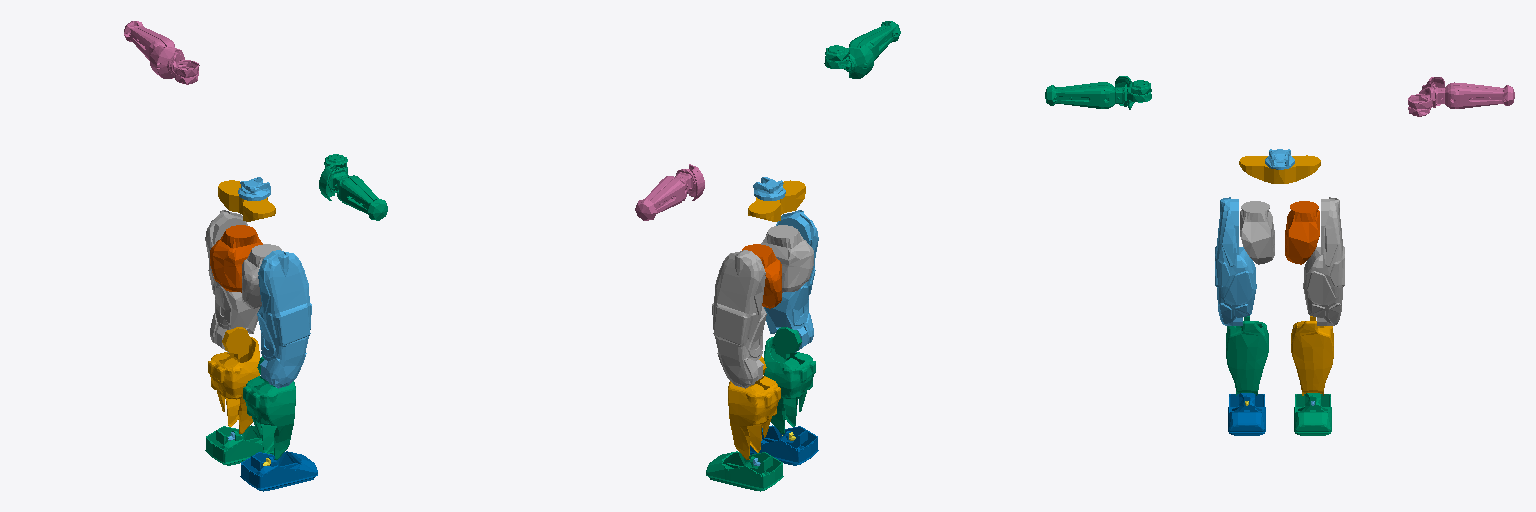
--- Render facts (derived) ---
3 views of the same robot in one strip: view 1: azimuth 30°, elevation 25°; view 2: azimuth 150°, elevation 25°; view 3: azimuth 270°, elevation 25° (orthographic).
Model valkyrie with 37 links and 36 joints (26 revolute, 10 fixed), rooted at pelvis, posed all joints at 0.
Links seen in each view (by area): view 1: rightHipPitchLink, leftKneePitchLink, rightKneePitchLink, leftHipPitchLink, leftElbowPitchLink, rightFoot, rightElbowPitchLink, leftHipYawLink, leftFoot, pelvis, rightHipYawLink, torsoYawLink; view 2: leftHipPitchLink, rightKneePitchLink, leftKneePitchLink, rightHipPitchLink, leftFoot, rightElbowPitchLink, rightHipYawLink, leftElbowPitchLink, rightFoot, pelvis, leftHipYawLink, torsoYawLink; view 3: rightHipPitchLink, leftHipPitchLink, leftKneePitchLink, rightKneePitchLink, leftElbowPitchLink, rightElbowPitchLink, rightHipYawLink, leftHipYawLink, rightFoot, leftFoot, pelvis.
Boxes of the visible links, x1=… form: rightHipPitchLink: x1=257, y1=250, x2=311, y2=388; leftKneePitchLink: x1=208, y1=327, x2=259, y2=433; rightKneePitchLink: x1=243, y1=356, x2=295, y2=459; leftHipPitchLink: x1=205, y1=210, x2=259, y2=352; leftElbowPitchLink: x1=124, y1=21, x2=199, y2=84; rightFoot: x1=240, y1=451, x2=317, y2=491; rightElbowPitchLink: x1=319, y1=154, x2=387, y2=220; leftHipYawLink: x1=210, y1=225, x2=262, y2=292; leftFoot: x1=205, y1=425, x2=273, y2=465; pelvis: x1=218, y1=180, x2=275, y2=221; rightHipYawLink: x1=242, y1=244, x2=281, y2=308; torsoYawLink: x1=238, y1=177, x2=270, y2=200; leftHipPitchLink: x1=712, y1=250, x2=766, y2=388; rightKneePitchLink: x1=764, y1=327, x2=815, y2=433; leftKneePitchLink: x1=728, y1=356, x2=780, y2=459; rightHipPitchLink: x1=764, y1=210, x2=818, y2=352; leftFoot: x1=706, y1=451, x2=783, y2=491; rightElbowPitchLink: x1=824, y1=21, x2=900, y2=78; rightHipYawLink: x1=761, y1=225, x2=813, y2=292; leftElbowPitchLink: x1=635, y1=164, x2=704, y2=220; rightFoot: x1=750, y1=425, x2=818, y2=465; pelvis: x1=748, y1=180, x2=805, y2=221; leftHipYawLink: x1=742, y1=244, x2=781, y2=308; torsoYawLink: x1=753, y1=177, x2=785, y2=200; rightHipPitchLink: x1=1215, y1=197, x2=1256, y2=325; leftHipPitchLink: x1=1303, y1=197, x2=1344, y2=325; leftKneePitchLink: x1=1291, y1=316, x2=1333, y2=395; rightKneePitchLink: x1=1226, y1=316, x2=1268, y2=395; leftElbowPitchLink: x1=1408, y1=77, x2=1514, y2=116; rightElbowPitchLink: x1=1045, y1=76, x2=1151, y2=109; rightHipYawLink: x1=1240, y1=201, x2=1274, y2=264; leftHipYawLink: x1=1285, y1=201, x2=1319, y2=264; rightFoot: x1=1228, y1=393, x2=1265, y2=435; leftFoot: x1=1294, y1=393, x2=1331, y2=435; pelvis: x1=1239, y1=155, x2=1320, y2=183.
Size in the robot's own frame: 0.2911 by 1.96 by 1.56 metres.
Meshes: 23 distinct files referenced, 14 mesh visuals loaded (12 Collada DAE); not drawn: 11 (reference not matched to a file when rendering).

URDF robot description (valkyrie):
<?xml version="1.0" ?>
<!-- =================================================================================== -->
<!-- |    This document was autogenerated by xacro from [local-path]/Desktop/catkin_ws/src/val_description/model/robots/valkyrie_C_arm_mass_sims.xacro | -->
<!-- |    EDITING THIS FILE BY HAND IS NOT RECOMMENDED                                 | -->
<!-- =================================================================================== -->
<robot name="valkyrie" xmlns:xacro="http://ros.org/wiki/xacro">
  <!--Yaw-->
  <!--pitch-->
  <!--roll-->
  <!-- Pelvis include -->
  <!-- Leg include -->
  <!-- Head include -->
  <!-- Arm include -->
  <!-- Waist include -->
  <link name="pelvis">
    <inertial>
      <mass value="8.22"/>
      <origin rpy="0 0 0" xyz="-0.00532 -0.003512 -0.0036"/>
      <inertia ixx="0.11866378" ixy="-0.000143482" ixz="0.003271293" iyy="0.097963425" iyz="0.002159545" izz="0.083854638"/>
    </inertial>
    <visual>
      <geometry>
        <mesh filename="package://val_description/model/meshes/pelvis/pelvis.dae"/>
      </geometry>
      <origin rpy="0.0 0.0 0.0" xyz="0.0 0.0 0.0"/>
    </visual>
    <collision>
      <geometry>
        <mesh filename="package://val_description/model/meshes/pelvis/pelvis.dae"/>
      </geometry>
      <origin rpy="0 0 0" xyz="0 0 0"/>
    </collision>
  </link>
  <link name="torsoYawLink">
    <inertial>
      <mass value="0.5"/>
      <origin rpy="0 0 0" xyz="0.000000 0.000000 -0.010000"/>
      <inertia ixx="0.000608427" ixy="-1.172e-06" ixz="1.647e-06" iyy="0.000620328" iyz="-2.33e-07" izz="0.001078108"/>
    </inertial>
    <visual>
      <geometry>
        <mesh filename="package://val_description/model/meshes/torso/torsoyaw.dae"/>
      </geometry>
      <origin rpy="0.0 0.0 0.0" xyz="0.0 0.0 0.0"/>
    </visual>
    <collision>
      <geometry>
        <mesh filename="package://val_description/model/meshes/torso/torsoyaw.dae"/>
      </geometry>
      <origin rpy="0 0 0" xyz="0 0 0"/>
    </collision>
  </link>
  <link name="torsoPitchLink">
    <inertial>
      <mass value="0.1"/>
      <origin rpy="0 0 0" xyz="0.000000 0.000000  0.005000"/>
      <inertia ixx="3.032e-05" ixy="0.0" ixz="-1.145e-06" iyy="2.1274e-05" iyz="0.0" izz="2.8285e-05"/>
    </inertial>
    <visual>
      <geometry>
        <mesh filename="package://val_description/model/meshes/torso/torsopitch.dae"/>
      </geometry>
      <origin rpy="0.0 0.0 0.0" xyz="0.0 0.0 0.0"/>
    </visual>
    <collision>
      <geometry>
        <mesh filename="package://val_description/model/meshes/torso/torsopitch.dae"/>
      </geometry>
      <origin rpy="0 0 0" xyz="0 0 0"/>
    </collision>
  </link>
  <link name="torso">
    <inertial>
      <mass value="39.47"/>
      <origin rpy="0 0 0" xyz="-0.095548 -0.003337 0.243098"/>
      <inertia ixx="0.87326933" ixy="9.9563e-05" ixz="0.061345211" iyy="1.0108485" iyz="0.00181849" izz="0.77839801"/>
    </inertial>
    <visual>
      <geometry>
        <mesh filename="package://val_description/model/meshes/torso/torso.dae"/>
      </geometry>
      <origin rpy="0.0 0.0 0.0" xyz="0.0 0.0 0.0"/>
    </visual>
    <collision>
      <geometry>
        <mesh filename="package://val_description/model/meshes/torso/torso.dae"/>
      </geometry>
      <origin rpy="0 0 0" xyz="0 0 0"/>
    </collision>
  </link>
  <joint name="torsoYaw" type="revolute">
    <origin rpy="0.0 0.0 0.0" xyz="0.0 0.0 0.0"/>
    <axis xyz="0 0 1"/>
    <parent link="pelvis"/>
    <child link="torsoYawLink"/>
    <limit effort="190" lower="-1.329" upper="1.181" velocity="5.89"/>
    <controller_gains Kd="0.0" Ki="0.0" Kp="0.0"/>
    <dynamics damping="0.1" friction="0.0"/>
  </joint>
  <gazebo reference="torsoYaw">
    <provideFeedback>1</provideFeedback>
    <implicitSpringDamper>1</implicitSpringDamper>
  </gazebo>
  <joint name="torsoPitch" type="revolute">
    <origin rpy="0.0 0.0 0.0" xyz="0.04191 0.0 0.0"/>
    <axis xyz="0 1 0"/>
    <parent link="torsoYawLink"/>
    <child link="torsoPitchLink"/>
    <limit effort="150" lower="-0.13" upper="0.666" velocity="9"/>
    <controller_gains Kd="0.0" Ki="0.0" Kp="0.0"/>
    <dynamics damping="0.1" friction="0.0"/>
  </joint>
  <gazebo reference="torsoPitch">
    <provideFeedback>1</provideFeedback>
    <implicitSpringDamper>1</implicitSpringDamper>
  </gazebo>
  <joint name="torsoRoll" type="revolute">
    <origin rpy="0.0 0.0 0.0" xyz="0.0 0.0 0.0203"/>
    <axis xyz="1 0 0"/>
    <parent link="torsoPitchLink"/>
    <child link="torso"/>
    <limit effort="150" lower="-0.23" upper="0.255" velocity="9"/>
    <controller_gains Kd="0.0" Ki="0.0" Kp="0.0"/>
    <dynamics damping="0.1" friction="0.0"/>
  </joint>
  <gazebo reference="torsoRoll">
    <provideFeedback>1</provideFeedback>
    <implicitSpringDamper>1</implicitSpringDamper>
  </gazebo>
  <link name="lowerNeckPitchLink">
    <inertial>
      <mass value="1.05"/>
      <origin rpy="0 0 0" xyz="-0.020000 0.000000  0.040000"/>
      <inertia ixx="0.001470716" ixy="-0.000126021" ixz="0.000632521" iyy="0.001851919" iyz="0.000243012" izz="0.000832117"/>
    </inertial>
    <visual>
      <geometry>
        <mesh filename="package://val_description/model/meshes/head/neckj1.dae"/>
      </geometry>
      <origin rpy="0.0 0.0 0.0" xyz="0.0 0.0 0.0"/>
    </visual>
    <collision>
      <geometry>
        <mesh filename="package://val_description/model/meshes/head/neckj1.dae"/>
      </geometry>
      <origin rpy="0 0 0" xyz="0 0 0"/>
    </collision>
  </link>
  <link name="neckYawLink">
    <inertial>
      <mass value="1.4"/>
      <origin rpy="0 0 0" xyz="-0.030000  -0.010000 0.150000"/>
      <inertia ixx="0.001997698" ixy="-0.000180062" ixz="0.000723677" iyy="0.002919928" iyz="0.000246467" izz="0.002119751"/>
    </inertial>
    <visual>
      <geometry>
        <mesh filename="package://val_description/model/meshes/head/neckj2.dae"/>
      </geometry>
      <origin rpy="0.0 0.0 0.0" xyz="0.0 0.0 0.0"/>
    </visual>
    <collision>
      <geometry>
        <mesh filename="package://val_description/model/meshes/head/neckj2.dae"/>
      </geometry>
      <origin rpy="0 0 0" xyz="0 0 0"/>
    </collision>
  </link>
  <link name="upperNeckPitchLink">
    <inertial>
      <mass value="3.89"/>
      <origin rpy="0 0 0" xyz="0.100912 0.005783 0.034787"/>
      <inertia ixx="0.039847525" ixy="-0.000470418" ixz="-0.002829842" iyy="0.041418564" iyz="-0.000782564" izz="0.036841236"/>
    </inertial>
    <visual>
      <geometry>
        <mesh filename="package://val_description/model/meshes/head/head_multisense_no_visor.dae"/>
      </geometry>
      <origin rpy="0.0 0.0 0.0" xyz="0.0 0.0 0.0"/>
    </visual>
    <collision>
      <geometry>
        <mesh filename="package://val_description/model/meshes/head/head_multisense_no_visor.dae"/>
      </geometry>
      <origin rpy="0 0 0" xyz="0 0 0"/>
    </collision>
  </link>
  <joint name="lowerNeckPitch" type="revolute">
    <origin rpy="0.0 0.0 0.0" xyz="0.0203518 0.0 0.33845"/>
    <axis xyz="0 1 0"/>
    <parent link="torso"/>
    <child link="lowerNeckPitchLink"/>
    <limit effort="26" lower="0" upper="1.162" velocity="5"/>
    <controller_gains Kd="3" Ki="3" Kp="50"/>
    <dynamics damping="0.1" friction="0.0"/>
  </joint>
  <gazebo reference="lowerNeckPitch">
    <provideFeedback>1</provideFeedback>
    <implicitSpringDamper>1</implicitSpringDamper>
  </gazebo>
  <joint name="neckYaw" type="revolute">
    <origin rpy="0.0 0.0 0.0" xyz="-0.051924 0.0 0.0"/>
    <axis xyz="0 0 1"/>
    <parent link="lowerNeckPitchLink"/>
    <child link="neckYawLink"/>
    <limit effort="26" lower="-1.04719755" upper="1.04719755" velocity="5"/>
    <controller_gains Kd="3" Ki="0.0" Kp="50"/>
    <dynamics damping="0.1" friction="0.0"/>
  </joint>
  <gazebo reference="neckYaw">
    <provideFeedback>1</provideFeedback>
    <implicitSpringDamper>1</implicitSpringDamper>
  </gazebo>
  <joint name="upperNeckPitch" type="revolute">
    <origin rpy="0.0 0.0 0.0" xyz="-0.06 0 0.195997"/>
    <axis xyz="0 1 0"/>
    <parent link="neckYawLink"/>
    <child link="upperNeckPitchLink"/>
    <limit effort="26" lower="-0.872" upper="0.0" velocity="5"/>
    <controller_gains Kd="3" Ki="0.0" Kp="50"/>
    <dynamics damping="0.1" friction="0.0"/>
  </joint>
  <gazebo reference="upperNeckPitch">
    <provideFeedback>1</provideFeedback>
    <implicitSpringDamper>1</implicitSpringDamper>
  </gazebo>
  <link name="rightShoulderPitchLink">
    <inertial>
      <mass value="2.65"/>
      <origin rpy="0 0 0" xyz="0.012 -0.251 0.000000"/>
      <inertia ixx="0.013718167" ixy="0.0" ixz="0.0" iyy="0.010502833" iyz="0.0" izz="0.014806433"/>
    </inertial>
    <visual>
      <geometry>
        <mesh filename="package://val_description/model/meshes/arms/aj1_right.dae"/>
      </geometry>
      <origin rpy="0.0 0.0 0.0" xyz="0.0 0.0 0.0"/>
    </visual>
    <collision>
      <geometry>
        <mesh filename="package://val_description/model/meshes/arms/aj1_right.dae"/>
      </geometry>
      <origin rpy="0 0 0" xyz="0 0 0"/>
    </collision>
  </link>
  <link name="rightShoulderRollLink">
    <inertial>
      <mass value="3.97"/>
      <origin rpy="0 0 0" xyz="0.008513 -0.02068 -0.001088"/>
      <inertia ixx="0.014598842" ixy="-0.00066764" ixz="3.629e-05" iyy="0.006452136" iyz="8.283e-05" izz="0.016848319"/>
    </inertial>
    <visual>
      <geometry>
        <mesh filename="package://val_description/model/meshes/arms/aj2_right.dae"/>
      </geometry>
      <origin rpy="0.0 0.0 0.0" xyz="0.0 0.0 0.0"/>
    </visual>
    <collision>
      <geometry>
        <mesh filename="package://val_description/model/meshes/arms/aj2_right.dae"/>
      </geometry>
      <origin rpy="0 0 0" xyz="0 0 0"/>
    </collision>
  </link>
  <link name="rightShoulderYawLink">
    <inertial>
      <mass value="3.085"/>
      <origin rpy="0 0 0" xyz="-0.004304 -0.209832 -0.007295"/>
      <inertia ixx="0.039355177" ixy="0.007827077" ixz="0.000753947" iyy="0.004905765" iyz="-0.002723873" izz="0.041879481"/>
    </inertial>
    <visual>
      <geometry>
        <mesh filename="package://val_description/model/meshes/arms/aj3_right.dae"/>
      </geometry>
      <origin rpy="0.0 0.0 0.0" xyz="0.0 0.0 0.0"/>
    </visual>
    <collision>
      <geometry>
        <mesh filename="package://val_description/model/meshes/arms/aj3_right.dae"/>
      </geometry>
      <origin rpy="0 0 0" xyz="0 0 0"/>
    </collision>
  </link>
  <link name="rightElbowPitchLink">
    <inertial>
      <mass value="6.03"/>
      <origin rpy="0 0 0" xyz="-0.010000  -0.13 0.019564"/>
      <inertia ixx="0.01175543" ixy="-0.001300853" ixz="-0.000727141" iyy="0.005071567" iyz="-0.001695416" izz="0.011365657"/>
    </inertial>
    <visual>
      <geometry>
        <mesh filename="package://val_description/model/meshes/arms/right_elbow_mass_sim.dae"/>
      </geometry>
      <origin rpy="0.0 0.0 0.0" xyz="0.0 0.0 0.0"/>
    </visual>
    <collision>
      <geometry>
        <mesh filename="package://val_description/model/meshes/arms/right_elbow_mass_sim.dae"/>
      </geometry>
      <origin rpy="0 0 0" xyz="0 0 0"/>
    </collision>
  </link>
  <joint name="rightShoulderPitch" type="revolute">
    <origin rpy="0.0 0.0 0.0" xyz="-0.0316 0.0 0.2984"/>
    <axis xyz="0 1 0"/>
    <parent link="torso"/>
    <child link="rightShoulderPitchLink"/>
    <limit effort="190" lower="-2.85" upper="2.0" velocity="5.89"/>
    <controller_gains Kd="0.0" Ki="0.0" Kp="0.0"/>
    <dynamics damping="0.1" friction="0.0"/>
  </joint>
  <gazebo reference="rightShoulderPitch">
    <provideFeedback>1</provideFeedback>
    <implicitSpringDamper>1</implicitSpringDamper>
  </gazebo>
  <joint name="rightShoulderRoll" type="revolute">
    <origin rpy="0.0 0.0 0.0" xyz="0.0 -0.2499 0.0"/>
    <axis xyz="1 0 0"/>
    <parent link="rightShoulderPitchLink"/>
    <child link="rightShoulderRollLink"/>
    <limit effort="190" lower="-1.266" upper="1.519" velocity="5.89"/>
    <controller_gains Kd="0.0" Ki="0.0" Kp="0.0"/>
    <dynamics damping="0.1" friction="0.0"/>
  </joint>
  <gazebo reference="rightShoulderRoll">
    <provideFeedback>1</provideFeedback>
    <implicitSpringDamper>1</implicitSpringDamper>
  </gazebo>
  <joint name="rightShoulderYaw" type="revolute">
    <origin rpy="0.0 0.0 0.0" xyz="0.0 0.0 0.0"/>
    <axis xyz="0 1 0"/>
    <parent link="rightShoulderRollLink"/>
    <child link="rightShoulderYawLink"/>
    <limit effort="65" lower="-3.1" upper="2.18" velocity="11.5"/>
    <controller_gains Kd="0.0" Ki="0.0" Kp="0.0"/>
    <dynamics damping="0.1" friction="0.0"/>
  </joint>
  <gazebo reference="rightShoulderYaw">
    <provideFeedback>1</provideFeedback>
    <implicitSpringDamper>1</implicitSpringDamper>
  </gazebo>
  <joint name="rightElbowPitch" type="revolute">
    <origin rpy="0.0 0.0 0.0" xyz="0.0254 -0.33 0.0"/>
    <axis xyz="0 0 1"/>
    <parent link="rightShoulderYawLink"/>
    <child link="rightElbowPitchLink"/>
    <limit effort="65" lower="-0.12" upper="2.174" velocity="11.5"/>
    <controller_gains Kd="0.0" Ki="0.0" Kp="0.0"/>
    <dynamics damping="0.1" friction="0.0"/>
  </joint>
  <gazebo reference="rightElbowPitch">
    <provideFeedback>1</provideFeedback>
    <implicitSpringDamper>1</implicitSpringDamper>
  </gazebo>
  <link name="leftShoulderPitchLink">
    <inertial>
      <mass value="2.65"/>
      <origin rpy="0 0 0" xyz="-0.012 0.251 0.000000"/>
      <inertia ixx="0.013718167" ixy="0.0" ixz="0.0" iyy="0.010502833" iyz="0.0" izz="0.014806433"/>
    </inertial>
    <visual>
      <geometry>
        <mesh filename="package://val_description/model/meshes/arms/aj1_left.dae"/>
      </geometry>
      <origin rpy="0.0 0.0 0.0" xyz="0.0 0.0 0.0"/>
    </visual>
    <collision>
      <geometry>
        <mesh filename="package://val_description/model/meshes/arms/aj1_left.dae"/>
      </geometry>
      <origin rpy="0 0 0" xyz="0 0 0"/>
    </collision>
  </link>
  <link name="leftShoulderRollLink">
    <inertial>
      <mass value="3.97"/>
      <origin rpy="0 0 0" xyz="-0.008513 0.02068 -0.001088"/>
      <inertia ixx="0.014598842" ixy="-0.00066764" ixz="-3.629e-05" iyy="0.006452136" iyz="-8.283e-05" izz="0.016848319"/>
    </inertial>
    <visual>
      <geometry>
        <mesh filename="package://val_description/model/meshes/arms/aj2_left.dae"/>
      </geometry>
      <origin rpy="0.0 0.0 0.0" xyz="0.0 0.0 0.0"/>
    </visual>
    <collision>
      <geometry>
        <mesh filename="package://val_description/model/meshes/arms/aj2_left.dae"/>
      </geometry>
      <origin rpy="0 0 0" xyz="0 0 0"/>
    </collision>
  </link>
  <link name="leftShoulderYawLink">
    <inertial>
      <mass value="3.085"/>
      <origin rpy="0 0 0" xyz="-0.004304 0.209832 0.007295"/>
      <inertia ixx="0.039355177" ixy="-0.007827077" ixz="-0.000753947" iyy="0.004905765" iyz="0.002723873" izz="0.041879481"/>
    </inertial>
    <visual>
      <geometry>
        <mesh filename="package://val_description/model/meshes/arms/aj3_left.dae"/>
      </geometry>
      <origin rpy="0.0 0.0 0.0" xyz="0.0 0.0 0.0"/>
    </visual>
    <collision>
      <geometry>
        <mesh filename="package://val_description/model/meshes/arms/aj3_left.dae"/>
      </geometry>
      <origin rpy="0 0 0" xyz="0 0 0"/>
    </collision>
  </link>
  <link name="leftElbowPitchLink">
    <inertial>
      <mass value="6.03"/>
      <origin rpy="0 0 0" xyz="-0.010000  0.13 0.019564"/>
      <inertia ixx="0.01175543" ixy="0.001300853" ixz="-0.000727141" iyy="0.005071567" iyz="0.001695416" izz="0.011365657"/>
    </inertial>
    <visual>
      <geometry>
        <mesh filename="package://val_description/model/meshes/arms/left_elbow_mass_sim.dae"/>
      </geometry>
      <origin rpy="0.0 0.0 0.0" xyz="0.0 0.0 0.0"/>
    </visual>
    <collision>
      <geometry>
        <mesh filename="package://val_description/model/meshes/arms/left_elbow_mass_sim.dae"/>
      </geometry>
      <origin rpy="0 0 0" xyz="0 0 0"/>
    </collision>
  </link>
  <joint name="leftShoulderPitch" type="revolute">
    <origin rpy="0.0 0.0 0.0" xyz="-0.0316 0.0 0.2984"/>
    <axis xyz="0 1 0"/>
    <parent link="torso"/>
    <child link="leftShoulderPitchLink"/>
    <limit effort="190" lower="-2.85" upper="2.0" velocity="5.89"/>
    <controller_gains Kd="0.0" Ki="0.0" Kp="0.0"/>
    <dynamics damping="0.1" friction="0.0"/>
  </joint>
  <gazebo reference="leftShoulderPitch">
    <provideFeedback>1</provideFeedback>
    <implicitSpringDamper>1</implicitSpringDamper>
  </gazebo>
  <joint name="leftShoulderRoll" type="revolute">
    <origin rpy="0.0 0.0 0.0" xyz="0.0 0.2499 0.0"/>
    <axis xyz="1 0 0"/>
    <parent link="leftShoulderPitchLink"/>
    <child link="leftShoulderRollLink"/>
    <limit effort="190" lower="-1.519" upper="1.266" velocity="5.89"/>
    <controller_gains Kd="0.0" Ki="0.0" Kp="0.0"/>
    <dynamics damping="0.1" friction="0.0"/>
  </joint>
  <gazebo reference="leftShoulderRoll">
    <provideFeedback>1</provideFeedback>
    <implicitSpringDamper>1</implicitSpringDamper>
  </gazebo>
  <joint name="leftShoulderYaw" type="revolute">
    <origin rpy="0.0 0.0 0.0" xyz="0.0 0.0 0.0"/>
    <axis xyz="0 1 0"/>
    <parent link="leftShoulderRollLink"/>
    <child link="leftShoulderYawLink"/>
    <limit effort="65" lower="-3.1" upper="2.18" velocity="11.5"/>
    <controller_gains Kd="0.0" Ki="0.0" Kp="0.0"/>
    <dynamics damping="0.1" friction="0.0"/>
  </joint>
  <gazebo reference="leftShoulderYaw">
    <provideFeedback>1</provideFeedback>
    <implicitSpringDamper>1</implicitSpringDamper>
  </gazebo>
  <joint name="leftElbowPitch" type="revolute">
    <origin rpy="0.0 0.0 0.0" xyz="0.0254 0.33 0.0"/>
    <axis xyz="0 0 1"/>
    <parent link="leftShoulderYawLink"/>
    <child link="leftElbowPitchLink"/>
    <limit effort="65" lower="-2.174" upper="0.12" velocity="11.5"/>
    <controller_gains Kd="0.0" Ki="0.0" Kp="0.0"/>
    <dynamics damping="0.1" friction="0.0"/>
  </joint>
  <gazebo reference="leftElbowPitch">
    <provideFeedback>1</provideFeedback>
    <implicitSpringDamper>1</implicitSpringDamper>
  </gazebo>
  <link name="rightHipYawLink">
    <inertial>
      <mass value="2.39"/>
      <origin rpy="0 0 0" xyz="0.02176 0.00131 0.03867"/>
      <inertia ixx="0.017260978" ixy="0.0" ixz="0.0" iyy="0.014866198" iyz="0.0" izz="0.011238178"/>
    </inertial>
    <visual>
      <geometry>
        <mesh filename="package://val_description/model/meshes/legs/lj1_right.dae"/>
      </geometry>
      <origin rpy="0.0 0.0 0.0" xyz="0.0 0.0 0.0"/>
    </visual>
    <collision>
      <geometry>
        <mesh filename="package://val_description/model/meshes/legs/lj1_right.dae"/>
      </geometry>
      <origin rpy="0 0 0" xyz="0 0 0"/>
    </collision>
  </link>
  <link name="rightHipRollLink">
    <inertial>
      <mass value="3.665"/>
      <origin rpy="0 0 0" xyz="0.012959 -0.00755 -0.015950"/>
      <inertia ixx="0.005978962" ixy="0.000234823" ixz="0.000553962" iyy="0.009372646" iyz="-0.000778956" izz="0.008193117"/>
    </inertial>
  </link>
  <link name="rightHipPitchLink">
    <inertial>
      <mass value="10.2"/>
      <origin rpy="0 0 0" xyz="0.016691 -0.091397 -0.207875"/>
      <inertia ixx="0.24083413" ixy="-3.5915e-05" ixz="0.003699383" iyy="0.25689705" iyz="0.001333005" izz="0.023276352"/>
    </inertial>
    <visual>
      <geometry>
        <mesh filename="package://val_description/model/meshes/legs/lj3_right.dae"/>
      </geometry>
      <origin rpy="0.0 0.0 0.0" xyz="0.0 0.0 0.0"/>
    </visual>
    <collision>
      <geometry>
        <mesh filename="package://val_description/model/meshes/legs/lj3_right.dae"/>
      </geometry>
      <origin rpy="0 0 0" xyz="0 0 0"/>
    </collision>
  </link>
  <link name="rightKneePitchLink">
    <inertial>
      <mass value="6.2"/>
      <origin rpy="0 0 0" xyz="-0.022183  0.001703  -0.189418"/>
      <inertia ixx="0.086935683" ixy="9.929e-05" ixz="0.000573207" iyy="0.091584066" iyz="0.000313745" izz="0.014017272"/>
    </inertial>
    <visual>
      <geometry>
        <mesh filename="package://val_description/model/meshes/legs/lj4_right.dae"/>
      </geometry>
      <origin rpy="0.0 0.0 0.0" xyz="0.0 0.0 0.0"/>
    </visual>
    <collision>
      <geometry>
        <mesh filename="package://val_description/model/meshes/legs/lj4_right.dae"/>
      </geometry>
      <origin rpy="0 0 0" xyz="0 0 0"/>
    </collision>
  </link>
  <link name="rightAnklePitchLink">
    <inertial>
      <mass value="0.03"/>
      <origin rpy="0 0 0" xyz="0.0 0.0 0.0"/>
      <inertia ixx="4.377e-06" ixy="0.0" ixz="0.0" iyy="4.322e-06" iyz="0.0" izz="7.015e-06"/>
    </inertial>
    <visual>
      <geometry>
        <mesh filename="package://val_description/model/meshes/legs/lj5.dae"/>
      </geometry>
      <origin rpy="0.0 0.0 0.0" xyz="0.0 0.0 0.0"/>
    </visual>
    <collision>
      <geometry>
        <mesh filename="package://val_description/model/meshes/legs/lj5.dae"/>
      </geometry>
      <origin rpy="0 0 0" xyz="0 0 0"/>
    </collision>
  </link>
  <link name="rightFoot">
    <inertial>
      <mass value="2.27"/>
      <origin rpy="0 0 0" xyz="0.037702  0.005161  -0.047634"/>
      <inertia ixx="0.00623936" ixy="0.000217174" ixz="0.001340587" iyy="0.017786991" iyz="-0.000187749" izz="0.020774433"/>
    </inertial>
    <visual>
      <geometry>
        <mesh filename="package://val_description/model/meshes/legs/foot.dae"/>
      </geometry>
      <origin rpy="0 0 0" xyz="0 0 0"/>
    </visual>
    <collision>
      <geometry>
        <box size="0.27 0.16 0.064"/>
      </geometry>
      <origin rpy="0.0 0.0 0.0" xyz="0.045 0.0 -0.056"/>
    </collision>
  </link>
  <!-- foot contact parameters copied from atlas_description in drcsim -->
  <gazebo reference="rightFoot">
    <!-- kp and kd for rubber -->
    <kp>1000000.0</kp>
    <kd>100.0</kd>
    <mu1>1.5</mu1>
    <mu2>1.5</mu2>
    <fdir1>1 0 0</fdir1>
    <maxVel>1.0</maxVel>
    <minDepth>0.00</minDepth>
  </gazebo>
  <joint name="rightHipYaw" type="revolute">
    <origin rpy="0.0 0.0 0.0" xyz="0.0 -0.1016 -0.1853"/>
    <axis xyz="0 0 1"/>
    <parent link="pelvis"/>
    <child link="rightHipYawLink"/>
    <limit effort="190" lower="-1.1" upper="0.4141" velocity="5.89"/>
    <controller_gains Kd="0.0" Ki="0.0" Kp="0.0"/>
    <dynamics damping="0.1" friction="0.0"/>
  </joint>
  <gazebo reference="rightHipYaw">
    <provideFeedback>1</provideFeedback>
    <implicitSpringDamper>1</implicitSpringDamper>
  </gazebo>
  <joint name="rightHipRoll" type="revolute">
    <origin rpy="0.0 0.0 0.0" xyz="0.0 0.0 0.0"/>
    <axis xyz="1 0 0"/>
    <parent link="rightHipYawLink"/>
    <child link="rightHipRollLink"/>
    <limit effort="350" lower="-0.5515" upper="0.467" velocity="7"/>
    <controller_gains Kd="0.0" Ki="0.0" Kp="0.0"/>
    <dynamics damping="0.1" friction="0.0"/>
  </joint>
  <gazebo reference="rightHipRoll">
    <provideFeedback>1</provideFeedback>
    <implicitSpringDamper>1</implicitSpringDamper>
  </gazebo>
  <joint name="rightHipPitch" type="revolute">
    <origin rpy="0.0 0.0 0.0" xyz="0.0 0.0 -0.0609"/>
    <axis xyz="0 1 0"/>
    <parent link="rightHipRollLink"/>
    <child link="rightHipPitchLink"/>
    <limit effort="350" lower="-2.42" upper="1.619" velocity="6.11"/>
    <controller_gains Kd="0.0" Ki="0.0" Kp="0.0"/>
    <dynamics damping="0.1" friction="0.0"/>
  </joint>
  <gazebo reference="rightHipPitch">
    <provideFeedback>1</provideFeedback>
    <implicitSpringDamper>1</implicitSpringDamper>
  </gazebo>
  <joint name="rightKneePitch" type="revolute">
    <origin rpy="0.0 0.0 0.0" xyz="0.000112225 -0.0361046 -0.430959"/>
    <axis xyz="0 1 0"/>
    <parent link="rightHipPitchLink"/>
    <child link="rightKneePitchLink"/>
    <limit effort="350" lower="-0.083" upper="2.057" velocity="6.11"/>
    <controller_gains Kd="0.0" Ki="0.0" Kp="0.0"/>
    <dynamics damping="0.1" friction="0.0"/>
  </joint>
  <gazebo reference="rightKneePitch">
    <provideFeedback>1</provideFeedback>
    <implicitSpringDamper>1</implicitSpringDamper>
  </gazebo>
  <joint name="rightAnklePitch" type="revolute">
    <origin rpy="0.0 0.0 0.0" xyz="-0.0102381 0.0 -0.40627"/>
    <axis xyz="0 1 0"/>
    <parent link="rightKneePitchLink"/>
    <child link="rightAnklePitchLink"/>
    <limit effort="205" lower="-0.93" upper="0.65" velocity="11"/>
    <controller_gains Kd="0.0" Ki="0.0" Kp="0.0"/>
    <dynamics damping="0.1" friction="0.0"/>
  </joint>
  <gazebo reference="rightAnklePitch">
    <provideFeedback>1</provideFeedback>
    <implicitSpringDamper>1</implicitSpringDamper>
  </gazebo>
  <joint name="rightAnkleRoll" type="revolute">
    <origin rpy="0.0 0.0 0.0" xyz="0.0 0.0 0.0"/>
    <axis xyz="1 0 0"/>
    <parent link="rightAnklePitchLink"/>
    <child link="rightFoot"/>
    <limit effort="205" lower="-0.4" upper="0.4" velocity="11"/>
    <controller_gains Kd="0.0" Ki="0.0" Kp="0.0"/>
    <dynamics damping="0.3" friction="0.0"/>
  </joint>
  <gazebo reference="rightAnkleRoll">
    <provideFeedback>1</provideFeedback>
    <implicitSpringDamper>1</implicitSpringDamper>
  </gazebo>
  <link name="leftHipYawLink">
    <inertial>
      <mass value="2.39"/>
      <origin rpy="0 0 0" xyz="0.02176 -0.00131 0.03867"/>
      <inertia ixx="0.017260978" ixy="0.0" ixz="0.0" iyy="0.014866198" iyz="0.0" izz="0.011238178"/>
    </inertial>
    <visual>
      <geometry>
        <mesh filename="package://val_description/model/meshes/legs/lj1_left.dae"/>
      </geometry>
      <origin rpy="0.0 0.0 0.0" xyz="0.0 0.0 0.0"/>
    </visual>
    <collision>
      <geometry>
        <mesh filename="package://val_description/model/meshes/legs/lj1_left.dae"/>
      </geometry>
      <origin rpy="0 0 0" xyz="0 0 0"/>
    </collision>
  </link>
  <link name="leftHipRollLink">
    <inertial>
      <mass value="3.665"/>
      <origin rpy="0 0 0" xyz="0.012959 0.00755 -0.015950"/>
      <inertia ixx="0.005978962" ixy="-0.000234823" ixz="0.000553962" iyy="0.009372646" iyz="0.000778956" izz="0.008193117"/>
    </inertial>
  </link>
  <link name="leftHipPitchLink">
    <inertial>
      <mass value="10.2"/>
      <origin rpy="0 0 0" xyz="0.016691 0.091397 -0.207875"/>
      <inertia ixx="0.24083413" ixy="3.5915e-05" ixz="0.003699383" iyy="0.25689705" iyz="-0.001333005" izz="0.023276352"/>
    </inertial>
    <visual>
      <geometry>
        <mesh filename="package://val_description/model/meshes/legs/lj3_left.dae"/>
      </geometry>
      <origin rpy="0.0 0.0 0.0" xyz="0.0 0.0 0.0"/>
    </visual>
    <collision>
      <geometry>
        <mesh filename="package://val_description/model/meshes/legs/lj3_left.dae"/>
      </geometry>
      <origin rpy="0 0 0" xyz="0 0 0"/>
    </collision>
  </link>
  <link name="leftKneePitchLink">
    <inertial>
      <mass value="6.2"/>
      <origin rpy="0 0 0" xyz="-0.022183  0.001703  -0.189418"/>
      <inertia ixx="0.086935683" ixy="9.929e-05" ixz="0.000573207" iyy="0.091584066" iyz="0.000313745" izz="0.014017272"/>
    </inertial>
    <visual>
      <geometry>
        <mesh filename="package://val_description/model/meshes/legs/lj4_left.dae"/>
      </geometry>
      <origin rpy="0.0 0.0 0.0" xyz="0.0 0.0 0.0"/>
    </visual>
    <collision>
      <geometry>
        <mesh filename="package://val_description/model/meshes/legs/lj4_left.dae"/>
      </geometry>
      <origin rpy="0 0 0" xyz="0 0 0"/>
    </collision>
  </link>
  <link name="leftAnklePitchLink">
    <inertial>
      <mass value="0.03"/>
      <origin rpy="0 0 0" xyz="0.0 0.0 0.0"/>
      <inertia ixx="4.377e-06" ixy="0.0" ixz="0.0" iyy="4.322e-06" iyz="0.0" izz="7.015e-06"/>
    </inertial>
    <visual>
      <geometry>
        <mesh filename="package://val_description/model/meshes/legs/lj5.dae"/>
      </geometry>
      <origin rpy="0.0 0.0 0.0" xyz="0.0 0.0 0.0"/>
    </visual>
    <collision>
      <geometry>
        <mesh filename="package://val_description/model/meshes/legs/lj5.dae"/>
      </geometry>
      <origin rpy="0 0 0" xyz="0 0 0"/>
    </collision>
  </link>
  <link name="leftFoot">
    <inertial>
      <mass value="2.27"/>
      <origin rpy="0 0 0" xyz="0.037702  0.005161  -0.047634"/>
      <inertia ixx="0.00623936" ixy="0.000217174" ixz="0.001340587" iyy="0.017786991" iyz="-0.000187749" izz="0.020774433"/>
    </inertial>
    <visual>
      <geometry>
        <mesh filename="package://val_description/model/meshes/legs/foot.dae"/>
      </geometry>
      <origin rpy="0 0 0" xyz="0 0 0"/>
    </visual>
    <collision>
      <geometry>
        <box size="0.27 0.16 0.064"/>
      </geometry>
      <origin rpy="0.0 0.0 0.0" xyz="0.045 0.0 -0.056"/>
    </collision>
  </link>
  <!-- foot contact parameters copied from atlas_description in drcsim -->
  <gazebo reference="leftFoot">
    <!-- kp and kd for rubber -->
    <kp>1000000.0</kp>
    <kd>100.0</kd>
    <mu1>1.5</mu1>
    <mu2>1.5</mu2>
    <fdir1>1 0 0</fdir1>
    <maxVel>1.0</maxVel>
    <minDepth>0.00</minDepth>
  </gazebo>
  <joint name="leftHipYaw" type="revolute">
    <origin rpy="0.0 0.0 0.0" xyz="0.0 0.1016 -0.1853"/>
    <axis xyz="0 0 1"/>
    <parent link="pelvis"/>
    <child link="leftHipYawLink"/>
    <limit effort="190" lower="-0.4141" upper="1.1" velocity="5.89"/>
    <controller_gains Kd="0.0" Ki="0.0" Kp="0.0"/>
    <dynamics damping="0.1" friction="0.0"/>
  </joint>
  <gazebo reference="leftHipYaw">
    <provideFeedback>1</provideFeedback>
    <implicitSpringDamper>1</implicitSpringDamper>
  </gazebo>
  <joint name="leftHipRoll" type="revolute">
    <origin rpy="0.0 0.0 0.0" xyz="0.0 0.0 0.0"/>
    <axis xyz="1 0 0"/>
    <parent link="leftHipYawLink"/>
    <child link="leftHipRollLink"/>
    <limit effort="350" lower="-0.467" upper="0.5515" velocity="7"/>
    <controller_gains Kd="0.0" Ki="0.0" Kp="0.0"/>
    <dynamics damping="0.1" friction="0.0"/>
  </joint>
  <gazebo reference="leftHipRoll">
    <provideFeedback>1</provideFeedback>
    <implicitSpringDamper>1</implicitSpringDamper>
  </gazebo>
  <joint name="leftHipPitch" type="revolute">
    <origin rpy="0.0 0.0 0.0" xyz="0.0 0.0 -0.0609"/>
    <axis xyz="0 1 0"/>
    <parent link="leftHipRollLink"/>
    <child link="leftHipPitchLink"/>
    <limit effort="350" lower="-2.42" upper="1.619" velocity="6.11"/>
    <controller_gains Kd="0.0" Ki="0.0" Kp="0.0"/>
    <dynamics damping="0.1" friction="0.0"/>
  </joint>
  <gazebo reference="leftHipPitch">
    <provideFeedback>1</provideFeedback>
    <implicitSpringDamper>1</implicitSpringDamper>
  </gazebo>
  <joint name="leftKneePitch" type="revolute">
    <origin rpy="0.0 0.0 0.0" xyz="0.000112225 0.0361046 -0.430959"/>
    <axis xyz="0 1 0"/>
    <parent link="leftHipPitchLink"/>
    <child link="leftKneePitchLink"/>
    <limit effort="350" lower="-0.083" upper="2.057" velocity="6.11"/>
    <controller_gains Kd="0.0" Ki="0.0" Kp="0.0"/>
    <dynamics damping="0.1" friction="0.0"/>
  </joint>
  <gazebo reference="leftKneePitch">
    <provideFeedback>1</provideFeedback>
    <implicitSpringDamper>1</implicitSpringDamper>
  </gazebo>
  <joint name="leftAnklePitch" type="revolute">
    <origin rpy="0.0 0.0 0.0" xyz="-0.0102381 0.0 -0.40627"/>
    <axis xyz="0 1 0"/>
    <parent link="leftKneePitchLink"/>
    <child link="leftAnklePitchLink"/>
    <limit effort="205" lower="-0.93" upper="0.65" velocity="11"/>
    <controller_gains Kd="0.0" Ki="0.0" Kp="0.0"/>
    <dynamics damping="0.1" friction="0.0"/>
  </joint>
  <gazebo reference="leftAnklePitch">
    <provideFeedback>1</provideFeedback>
    <implicitSpringDamper>1</implicitSpringDamper>
  </gazebo>
  <joint name="leftAnkleRoll" type="revolute">
    <origin rpy="0.0 0.0 0.0" xyz="0.0 0.0 0.0"/>
    <axis xyz="1 0 0"/>
    <parent link="leftAnklePitchLink"/>
    <child link="leftFoot"/>
    <limit effort="205" lower="-0.4" upper="0.4" velocity="11"/>
    <controller_gains Kd="0.0" Ki="0.0" Kp="0.0"/>
    <dynamics damping="0.3" friction="0.0"/>
  </joint>
  <gazebo reference="leftAnkleRoll">
    <provideFeedback>1</provideFeedback>
    <implicitSpringDamper>1</implicitSpringDamper>
  </gazebo>
  <link name="leftTorsoImu_Frame">
    <!-- Virtual Link -->
    <inertial>
      <mass value="1e-07"/>
      <origin rpy="0 0 0" xyz="0 0 0"/>
      <inertia ixx="3.33333333333e-22" ixy="0.0" ixz="0.0" iyy="3.33333333333e-22" iyz="0.0" izz="5e-22"/>
    </inertial>
  </link>
  <joint name="leftTorsoImu_Offset" type="fixed">
    <origin rpy="-1.5707 0.0 0.0" xyz="-0.0627634 0.134239 0.3630676"/>
    <axis xyz="0 0 1"/>
    <parent link="torso"/>
    <child link="leftTorsoImu_Frame"/>
  </joint>
  <gazebo reference="leftTorsoImu_Offset">
    <implicitSpringDamper>1</implicitSpringDamper>
  </gazebo>
  <gazebo>
    <plugin filename="libgazebo_ros_imu.so" name="imu_plugin_ros">
      <alwaysOn>true</alwaysOn>
      <bodyName>leftTorsoImu_Frame</bodyName>
      <topicName>leftTorsoImu/imu</topicName>
      <serviceName>leftTorsoImu/imu_service</serviceName>
      <gaussianNoise>0.0</gaussianNoise>
      <updateRate>1000.0</updateRate>
    </plugin>
  </gazebo>
  <gazebo reference="leftTorsoImu_Frame">
    <sensor name="leftTorsoImu" type="imu">
      <imuTransform>-0.0627634 0.134239 0.3630676 -1.5707 0.0 0.0</imuTransform>
      <always_on>true</always_on>
      <pose>0 0 0 0 0 0 </pose>
      <node name="/sensors/leftTorsoIMU"/>
      <api name="imu_3dm_gx4_15_sensor::Imu3DmGx415Sensor"/>
      <port name="/dev/serial/by-id/usb-Lord_Microstrain_Lord_Inertial_Sensor_0000__6233.47096-if00"/>
      <imu>
        <noise>
          <type>gaussian</type>
          <rate>
            <mean>0</mean>
            <stddev>0.0002</stddev>
            <bias_mean>7.5e-06</bias_mean>
            <bias_stddev>8e-07</bias_stddev>
          </rate>
          <accel>
            <mean>0</mean>
            <stddev>0.017</stddev>
            <bias_mean>0.1</bias_mean>
            <bias_stddev>0.001</bias_stddev>
          </accel>
        </noise>
      </imu>
    </sensor>
  </gazebo>
  <link name="rightHazardCamera_Frame">
    <!-- Virtual Link -->
    <inertial>
      <mass value="1e-07"/>
      <origin rpy="0 0 0" xyz="0 0 0"/>
      <inertia ixx="3.33333333333e-22" ixy="0.0" ixz="0.0" iyy="3.33333333333e-22" iyz="0.0" izz="5e-22"/>
    </inertial>
  </link>
  <gazebo reference="rightHazardCamera_Frame">
    <sensor name="rightHazardCamera" type="camera">
      <camera>
        <image>
          <width>1280</width>
          <height>1024</height>
          <format>R8G8B8</format>
        </image>
        <horizontal_fov>1.378</horizontal_fov>
        <clip>
          <near>0.1</near>
          <far>100</far>
        </clip>
      </camera>
      <update_rate>60</update_rate>
    </sensor>
  </gazebo>
  <joint name="rightHazardCamera_Offset" type="fixed">
    <origin rpy="1.57 0.0 1.57" xyz="0.0345 -0.0406 0.1135"/>
    <axis xyz="0 0 1"/>
    <parent link="torso"/>
    <child link="rightHazardCamera_Frame"/>
  </joint>
  <gazebo reference="rightHazardCamera_Offset">
    <implicitSpringDamper>1</implicitSpringDamper>
  </gazebo>
  <link name="leftHazardCamera_Frame">
    <!-- Virtual Link -->
    <inertial>
      <mass value="1e-07"/>
      <origin rpy="0 0 0" xyz="0 0 0"/>
      <inertia ixx="3.33333333333e-22" ixy="0.0" ixz="0.0" iyy="3.33333333333e-22" iyz="0.0" izz="5e-22"/>
    </inertial>
  </link>
  <gazebo reference="leftHazardCamera_Frame">
    <sensor name="leftHazardCamera" type="camera">
      <camera>
        <image>
          <width>1280</width>
          <height>1024</height>
          <format>R8G8B8</format>
        </image>
        <horizontal_fov>1.378</horizontal_fov>
        <clip>
          <near>0.1</near>
          <far>100</far>
        </clip>
      </camera>
      <update_rate>60</update_rate>
    </sensor>
  </gazebo>
  <joint name="leftHazardCamera_Offset" type="fixed">
    <origin rpy="1.57 0.0 1.57" xyz="0.0345 0.0406 0.1135"/>
    <axis xyz="0 0 1"/>
    <parent link="torso"/>
    <child link="leftHazardCamera_Frame"/>
  </joint>
  <gazebo reference="leftHazardCamera_Offset">
    <implicitSpringDamper>1</implicitSpringDamper>
  </gazebo>
  <link name="leftCOP_Frame">
    <inertial>
      <mass value="0.1"/>
      <origin rpy="0 0 0" xyz="0 0 0"/>
      <inertia ixx="8.33333333333e-05" ixy="0.0" ixz="0.0" iyy="8.33333333333e-05" iyz="0.0" izz="0.000125"/>
    </inertial>
  </link>
  <joint name="leftCOP_Offset" type="fixed">
    <origin rpy="0.0 0.0 0.0" xyz="0.0189 0.0 -0.0783"/>
    <axis xyz="0 0 1"/>
    <parent link="leftFoot"/>
    <child link="leftCOP_Frame"/>
  </joint>
  <gazebo reference="leftCOP_Offset">
    <implicitSpringDamper>1</implicitSpringDamper>
  </gazebo>
  <link name="leftFootSixAxis_Frame">
    <!-- Virtual Link -->
    <inertial>
      <mass value="1e-07"/>
      <origin rpy="0 0 0" xyz="0 0 0"/>
      <inertia ixx="3.33333333333e-22" ixy="0.0" ixz="0.0" iyy="3.33333333333e-22" iyz="0.0" izz="5e-22"/>
    </inertial>
  </link>
  <joint name="leftFootSixAxis_Offset" type="fixed">
    <origin rpy="3.14 0.0 0.0" xyz="0.0215646 0.0 -0.051054"/>
    <axis xyz="0 0 1"/>
    <parent link="leftFoot"/>
    <child link="leftFootSixAxis_Frame"/>
  </joint>
  <gazebo reference="leftFootSixAxis_Offset">
    <implicitSpringDamper>1</implicitSpringDamper>
  </gazebo>
  <gazebo reference="leftAnkleRoll">
    <sensor name="leftFootSixAxis" type="force_torque">
      <pose>0.0215646 0.0 -0.051054 3.14 0.0 0.0</pose>
      <sensor_number id="FT14020"/>
      <node id="/left_leg/ankle/left_actuator"/>
      <api name="ati_sensor_interface::ATISensorInterface"/>
      <always_on>true</always_on>
      <update_rate>500.0</update_rate>
      <force_torque>
        <frame>sensor</frame>
        <measure_direction>parent_to_child</measure_direction>
      </force_torque>
    </sensor>
  </gazebo>
  <link name="rightCOP_Frame">
    <inertial>
      <mass value="0.1"/>
      <origin rpy="0 0 0" xyz="0 0 0"/>
      <inertia ixx="8.33333333333e-05" ixy="0.0" ixz="0.0" iyy="8.33333333333e-05" iyz="0.0" izz="0.000125"/>
    </inertial>
  </link>
  <joint name="rightCOP_Offset" type="fixed">
    <origin rpy="0.0 0.0 0.0" xyz="0.0189 0.0 -0.0783"/>
    <axis xyz="0 0 1"/>
    <parent link="rightFoot"/>
    <child link="rightCOP_Frame"/>
  </joint>
  <gazebo reference="rightCOP_Offset">
    <implicitSpringDamper>1</implicitSpringDamper>
  </gazebo>
  <link name="rightFootSixAxis_Frame">
    <!-- Virtual Link -->
    <inertial>
      <mass value="1e-07"/>
      <origin rpy="0 0 0" xyz="0 0 0"/>
      <inertia ixx="3.33333333333e-22" ixy="0.0" ixz="0.0" iyy="3.33333333333e-22" iyz="0.0" izz="5e-22"/>
    </inertial>
  </link>
  <joint name="rightFootSixAxis_Offset" type="fixed">
    <origin rpy="3.14 0.0 0.0" xyz="0.0215646 0.0 -0.051054"/>
    <axis xyz="0 0 1"/>
    <parent link="rightFoot"/>
    <child link="rightFootSixAxis_Frame"/>
  </joint>
  <gazebo reference="rightFootSixAxis_Offset">
    <implicitSpringDamper>1</implicitSpringDamper>
  </gazebo>
  <gazebo reference="rightAnkleRoll">
    <sensor name="rightFootSixAxis" type="force_torque">
      <pose>0.0215646 0.0 -0.051054 3.14 0.0 0.0</pose>
      <sensor_number id="FT17214"/>
      <node id="/right_leg/ankle/left_actuator"/>
      <api name="ati_sensor_interface::ATISensorInterface"/>
      <always_on>true</always_on>
      <update_rate>500.0</update_rate>
      <force_torque>
        <frame>sensor</frame>
        <measure_direction>parent_to_child</measure_direction>
      </force_torque>
    </sensor>
  </gazebo>
  <link name="multisense_root_link">
    <!-- Virtual Link -->
    <inertial>
      <mass value="1e-07"/>
      <origin rpy="0 0 0" xyz="0 0 0"/>
      <inertia ixx="3.33333333333e-22" ixy="0.0" ixz="0.0" iyy="3.33333333333e-22" iyz="0.0" izz="5e-22"/>
    </inertial>
  </link>
  <joint name="multisense_head_root_joint" type="fixed">
    <origin rpy="-3.14159 0.130899694 0.0" xyz="0.183585961 0.0 0.075353826"/>
    <axis xyz="0 0 1"/>
    <parent link="upperNeckPitchLink"/>
    <child link="multisense_root_link"/>
  </joint>
  <gazebo reference="multisense_head_root_joint">
    <implicitSpringDamper>1</implicitSpringDamper>
  </gazebo>
  <link name="pelvisRearImu_Frame">
    <!-- Virtual Link -->
    <inertial>
      <mass value="1e-07"/>
      <origin rpy="0 0 0" xyz="0 0 0"/>
      <inertia ixx="3.33333333333e-22" ixy="0.0" ixz="0.0" iyy="3.33333333333e-22" iyz="0.0" izz="5e-22"/>
    </inertial>
  </link>
  <joint name="pelvisRearImu_Offset" type="fixed">
    <origin rpy="-3.14159 0.476467 -3.14159" xyz="-0.075844901 0.0 -0.111056426"/>
    <axis xyz="0 0 1"/>
    <parent link="pelvis"/>
    <child link="pelvisRearImu_Frame"/>
  </joint>
  <gazebo reference="pelvisRearImu_Offset">
    <implicitSpringDamper>1</implicitSpringDamper>
  </gazebo>
  <gazebo>
    <plugin filename="libgazebo_ros_imu.so" name="imu_plugin_ros">
      <alwaysOn>true</alwaysOn>
      <bodyName>pelvisRearImu_Frame</bodyName>
      <topicName>pelvisRearImu/imu</topicName>
      <serviceName>pelvisRearImu/imu_service</serviceName>
      <gaussianNoise>0.0</gaussianNoise>
      <updateRate>1000.0</updateRate>
    </plugin>
  </gazebo>
  <gazebo reference="pelvisRearImu_Frame">
    <sensor name="pelvisRearImu" type="imu">
      <imuTransform>-0.075844901 0.0 -0.111056426 -3.14159 0.476467 -3.14159</imuTransform>
      <always_on>true</always_on>
      <pose>0 0 0 0 0 0 </pose>
      <node name="/sensors/rearPelvisIMU"/>
      <api name="imu_3dm_gx4_15_sensor::Imu3DmGx415Sensor"/>
      <port name="/dev/serial/by-id/usb-Lord_Microstrain_Lord_Inertial_Sensor_0000__6233.47250-if00"/>
      <imu>
        <noise>
          <type>gaussian</type>
          <rate>
            <mean>0</mean>
            <stddev>0.0002</stddev>
            <bias_mean>7.5e-06</bias_mean>
            <bias_stddev>8e-07</bias_stddev>
          </rate>
          <accel>
            <mean>0</mean>
            <stddev>0.017</stddev>
            <bias_mean>0.1</bias_mean>
            <bias_stddev>0.001</bias_stddev>
          </accel>
        </noise>
      </imu>
    </sensor>
  </gazebo>
  <link name="pelvisMiddleImu_Frame">
    <!-- Virtual Link -->
    <inertial>
      <mass value="1e-07"/>
      <origin rpy="0 0 0" xyz="0 0 0"/>
      <inertia ixx="3.33333333333e-22" ixy="0.0" ixz="0.0" iyy="3.33333333333e-22" iyz="0.0" izz="5e-22"/>
    </inertial>
  </link>
  <joint name="pelvisMiddleImu_Offset" type="fixed">
    <origin rpy="3.14159 0.0 0.0" xyz="0.0 0.0 -0.10819638"/>
    <axis xyz="0 0 1"/>
    <parent link="pelvis"/>
    <child link="pelvisMiddleImu_Frame"/>
  </joint>
  <gazebo reference="pelvisMiddleImu_Offset">
    <implicitSpringDamper>1</implicitSpringDamper>
  </gazebo>
  <gazebo>
    <plugin filename="libgazebo_ros_imu.so" name="imu_plugin_ros">
      <alwaysOn>true</alwaysOn>
      <bodyName>pelvisMiddleImu_Frame</bodyName>
      <topicName>pelvisMiddleImu/imu</topicName>
      <serviceName>pelvisMiddleImu/imu_service</serviceName>
      <gaussianNoise>0.0</gaussianNoise>
      <updateRate>500.0</updateRate>
    </plugin>
  </gazebo>
  <gazebo reference="pelvisMiddleImu_Frame">
    <sensor name="pelvisMiddleImu" type="imu">
      <imuTransform>0.0 0.0 -0.10819638 3.14159 0.0 0.0</imuTransform>
      <always_on>true</always_on>
      <pose>0 0 0 0 0 0 </pose>
      <imu>
        <noise>
          <type>gaussian</type>
          <rate>
            <mean>0</mean>
            <stddev>0.0002</stddev>
            <bias_mean>7.5e-06</bias_mean>
            <bias_stddev>8e-07</bias_stddev>
          </rate>
          <accel>
            <mean>0</mean>
            <stddev>0.017</stddev>
            <bias_mean>0.1</bias_mean>
            <bias_stddev>0.001</bias_stddev>
          </accel>
        </noise>
      </imu>
    </sensor>
  </gazebo>
  <transmission name="torsoYawTransmission">
    <type>transmission_interface/SimpleTransmission</type>
    <joint name="torsoYaw">
      <hardwareInterface>EffortJointInterface</hardwareInterface>
    </joint>
    <actuator name="torsoYaw">
      <node name="/pelvis/waist"/>
      <mechanicalReduction>1</mechanicalReduction>
      <api name="robot_hardware_interface/TurbodriverAPI"/>
    </actuator>
  </transmission>
  <transmission name="waistTransmission">
    <type>robot_transmission_interface::TorsoPushrodTransmissionLoader</type>
    <joint name="torsoPitch">
      <role>pitch</role>
      <hardwareInterface>EffortJointInterface</hardwareInterface>
    </joint>
    <joint name="torsoRoll">
      <role>roll</role>
      <hardwareInterface>EffortJointInterface</hardwareInterface>
    </joint>
    <actuator name="waistRightActuator">
      <node name="/trunk/right_actuator"/>
      <role>right</role>
      <mechanicalReduction>1</mechanicalReduction>
      <api name="robot_hardware_interface/TurbodriverAPI_linear_Renishaw"/>
    </actuator>
    <actuator name="waistLeftActuator">
      <node name="/trunk/left_actuator"/>
      <role>left</role>
      <mechanicalReduction>1</mechanicalReduction>
      <api name="robot_hardware_interface/TurbodriverAPI_linear_Renishaw"/>
    </actuator>
  </transmission>
  <transmission name="leftHipYawTransmission">
    <type>transmission_interface/SimpleTransmission</type>
    <joint name="leftHipYaw">
      <hardwareInterface>EffortJointInterface</hardwareInterface>
    </joint>
    <actuator name="leftHipYaw">
      <node name="/pelvis/left_leg_j1"/>
      <mechanicalReduction>1</mechanicalReduction>
      <api name="robot_hardware_interface/TurbodriverAPI"/>
    </actuator>
  </transmission>
  <transmission name="leftHipRollTransmission">
    <type>transmission_interface/SimpleTransmission</type>
    <joint name="leftHipRoll">
      <hardwareInterface>EffortJointInterface</hardwareInterface>
    </joint>
    <actuator name="leftHipRoll">
      <node name="/left_leg/j2"/>
      <mechanicalReduction>1</mechanicalReduction>
      <api name="robot_hardware_interface/TurbodriverAPI"/>
    </actuator>
  </transmission>
  <transmission name="leftHipPitchTransmission">
    <type>transmission_interface/SimpleTransmission</type>
    <joint name="leftHipPitch">
      <hardwareInterface>EffortJointInterface</hardwareInterface>
    </joint>
    <actuator name="leftHipPitch">
      <node name="/left_leg/j3"/>
      <mechanicalReduction>1</mechanicalReduction>
      <api name="robot_hardware_interface/TurbodriverAPI"/>
    </actuator>
  </transmission>
  <transmission name="leftKneePitchTransmission">
    <type>transmission_interface/SimpleTransmission</type>
    <joint name="leftKneePitch">
      <hardwareInterface>EffortJointInterface</hardwareInterface>
    </joint>
    <actuator name="leftKneePitch">
      <node name="/left_leg/j4"/>
      <mechanicalReduction>1</mechanicalReduction>
      <api name="robot_hardware_interface/TurbodriverAPI"/>
    </actuator>
  </transmission>
  <transmission name="leftAnkleTransmission">
    <type>robot_transmission_interface::AnklePushrodTransmissionLoader</type>
    <joint name="leftAnklePitch">
      <role>pitch</role>
      <hardwareInterface>EffortJointInterface</hardwareInterface>
    </joint>
    <joint name="leftAnkleRoll">
      <role>roll</role>
      <hardwareInterface>EffortJointInterface</hardwareInterface>
    </joint>
    <actuator name="leftAnkleRightActuator">
      <node name="/left_leg/ankle/right_actuator"/>
      <role>right</role>
      <mechanicalReduction>1</mechanicalReduction>
      <api name="robot_hardware_interface/TurbodriverAPI_linear_futek"/>
    </actuator>
    <actuator name="leftAnkleLeftActuator">
      <node name="/left_leg/ankle/left_actuator"/>
      <role>left</role>
      <mechanicalReduction>1</mechanicalReduction>
      <api name="robot_hardware_interface/TurbodriverAPI_linear_futek"/>
    </actuator>
  </transmission>
  <transmission name="rightHipYawTransmission">
    <type>transmission_interface/SimpleTransmission</type>
    <joint name="rightHipYaw">
      <hardwareInterface>EffortJointInterface</hardwareInterface>
    </joint>
    <actuator name="rightHipYaw">
      <node name="/pelvis/right_leg_j1"/>
      <mechanicalReduction>1</mechanicalReduction>
      <api name="robot_hardware_interface/TurbodriverAPI"/>
    </actuator>
  </transmission>
  <transmission name="rightHipRollTransmission">
    <type>transmission_interface/SimpleTransmission</type>
    <joint name="rightHipRoll">
      <hardwareInterface>EffortJointInterface</hardwareInterface>
    </joint>
    <actuator name="rightHipRoll">
      <node name="/right_leg/j2"/>
      <mechanicalReduction>1</mechanicalReduction>
      <api name="robot_hardware_interface/TurbodriverAPI"/>
    </actuator>
  </transmission>
  <transmission name="rightHipPitchTransmission">
    <type>transmission_interface/SimpleTransmission</type>
    <joint name="rightHipPitch">
      <hardwareInterface>EffortJointInterface</hardwareInterface>
    </joint>
    <actuator name="rightHipPitch">
      <node name="/right_leg/j3"/>
      <mechanicalReduction>1</mechanicalReduction>
      <api name="robot_hardware_interface/TurbodriverAPI"/>
    </actuator>
  </transmission>
  <transmission name="rightKneePitchTransmission">
    <type>transmission_interface/SimpleTransmission</type>
    <joint name="rightKneePitch">
      <hardwareInterface>EffortJointInterface</hardwareInterface>
    </joint>
    <actuator name="rightKneePitch">
      <node name="/right_leg/j4"/>
      <mechanicalReduction>1</mechanicalReduction>
      <api name="robot_hardware_interface/TurbodriverAPI"/>
    </actuator>
  </transmission>
  <transmission name="rightAnkleTransmission">
    <type>robot_transmission_interface::AnklePushrodTransmissionLoader</type>
    <joint name="rightAnklePitch">
      <role>pitch</role>
      <hardwareInterface>EffortJointInterface</hardwareInterface>
    </joint>
    <joint name="rightAnkleRoll">
      <role>roll</role>
      <hardwareInterface>EffortJointInterface</hardwareInterface>
    </joint>
    <actuator name="rightAnkleRightActuator">
      <node name="/right_leg/ankle/right_actuator"/>
      <role>right</role>
      <mechanicalReduction>1</mechanicalReduction>
      <api name="robot_hardware_interface/TurbodriverAPI_linear_futek"/>
    </actuator>
    <actuator name="rightAnkleLeftActuator">
      <node name="/right_leg/ankle/left_actuator"/>
      <role>left</role>
      <mechanicalReduction>1</mechanicalReduction>
      <api name="robot_hardware_interface/TurbodriverAPI_linear_futek"/>
    </actuator>
  </transmission>
  <transmission name="leftShoulderPitchTransmission">
    <type>transmission_interface/SimpleTransmission</type>
    <joint name="leftShoulderPitch">
      <hardwareInterface>EffortJointInterface</hardwareInterface>
    </joint>
    <actuator name="leftShoulderPitch">
      <node name="/trunk/left_arm_j1"/>
      <mechanicalReduction>1</mechanicalReduction>
      <api name="robot_hardware_interface/TurbodriverAPI"/>
    </actuator>
  </transmission>
  <transmission name="leftShoulderRollTransmission">
    <type>transmission_interface/SimpleTransmission</type>
    <joint name="leftShoulderRoll">
      <hardwareInterface>EffortJointInterface</hardwareInterface>
    </joint>
    <actuator name="leftShoulderRoll">
      <node name="/left_arm/j2"/>
      <mechanicalReduction>1</mechanicalReduction>
      <api name="robot_hardware_interface/TurbodriverAPI"/>
    </actuator>
  </transmission>
  <transmission name="leftShoulderYawTransmission">
    <type>transmission_interface/SimpleTransmission</type>
    <joint name="leftShoulderYaw">
      <hardwareInterface>EffortJointInterface</hardwareInterface>
    </joint>
    <actuator name="leftShoulderYaw">
      <node name="/left_arm/j3"/>
      <mechanicalReduction>1</mechanicalReduction>
      <api name="robot_hardware_interface/TurbodriverAPI"/>
    </actuator>
  </transmission>
  <transmission name="leftElbowPitchTransmission">
    <type>transmission_interface/SimpleTransmission</type>
    <joint name="leftElbowPitch">
      <hardwareInterface>EffortJointInterface</hardwareInterface>
    </joint>
    <actuator name="leftElbowPitch">
      <node name="/left_arm/j4"/>
      <mechanicalReduction>1</mechanicalReduction>
      <api name="robot_hardware_interface/TurbodriverAPI"/>
    </actuator>
  </transmission>
  <transmission name="rightShoulderPitchTransmission">
    <type>transmission_interface/SimpleTransmission</type>
    <joint name="rightShoulderPitch">
      <hardwareInterface>EffortJointInterface</hardwareInterface>
    </joint>
    <actuator name="rightShoulderPitch">
      <node name="/trunk/right_arm_j1"/>
      <mechanicalReduction>1</mechanicalReduction>
      <api name="robot_hardware_interface/TurbodriverAPI"/>
    </actuator>
  </transmission>
  <transmission name="rightShoulderRollTransmission">
    <type>transmission_interface/SimpleTransmission</type>
    <joint name="rightShoulderRoll">
      <hardwareInterface>EffortJointInterface</hardwareInterface>
    </joint>
    <actuator name="rightShoulderRoll">
      <node name="/right_arm/j2"/>
      <mechanicalReduction>1</mechanicalReduction>
      <api name="robot_hardware_interface/TurbodriverAPI"/>
    </actuator>
  </transmission>
  <transmission name="rightShoulderYawTransmission">
    <type>transmission_interface/SimpleTransmission</type>
    <joint name="rightShoulderYaw">
      <hardwareInterface>EffortJointInterface</hardwareInterface>
    </joint>
    <actuator name="rightShoulderYaw">
      <node name="/right_arm/j3"/>
      <mechanicalReduction>1</mechanicalReduction>
      <api name="robot_hardware_interface/TurbodriverAPI"/>
    </actuator>
  </transmission>
  <transmission name="rightElbowPitchTransmission">
    <type>transmission_interface/SimpleTransmission</type>
    <joint name="rightElbowPitch">
      <hardwareInterface>EffortJointInterface</hardwareInterface>
    </joint>
    <actuator name="rightElbowPitch">
      <node name="/right_arm/j4"/>
      <mechanicalReduction>1</mechanicalReduction>
      <api name="robot_hardware_interface/TurbodriverAPI"/>
    </actuator>
  </transmission>
  <transmission name="lowerNeckPitchTransmission">
    <type>transmission_interface/SimpleTransmission</type>
    <joint name="lowerNeckPitch">
      <hardwareInterface>PositionJointInterface</hardwareInterface>
    </joint>
    <actuator name="lowerNeckPitch">
      <node name="/neck/j1"/>
      <mechanicalReduction>1</mechanicalReduction>
      <api name="robot_hardware_interface/TurbodriverAPI"/>
    </actuator>
  </transmission>
  <transmission name="neckYawTransmission">
    <type>transmission_interface/SimpleTransmission</type>
    <joint name="neckYaw">
      <hardwareInterface>PositionJointInterface</hardwareInterface>
    </joint>
    <actuator name="neckYaw">
      <node name="/neck/j2"/>
      <mechanicalReduction>1</mechanicalReduction>
      <api name="robot_hardware_interface/TurbodriverAPI"/>
    </actuator>
  </transmission>
  <transmission name="upperNeckPitchTransmission">
    <type>transmission_interface/SimpleTransmission</type>
    <joint name="upperNeckPitch">
      <hardwareInterface>PositionJointInterface</hardwareInterface>
    </joint>
    <actuator name="upperNeckPitch">
      <node name="/neck/j3"/>
      <mechanicalReduction>1</mechanicalReduction>
      <api name="robot_hardware_interface/TurbodriverAPI"/>
    </actuator>
  </transmission>
</robot>
